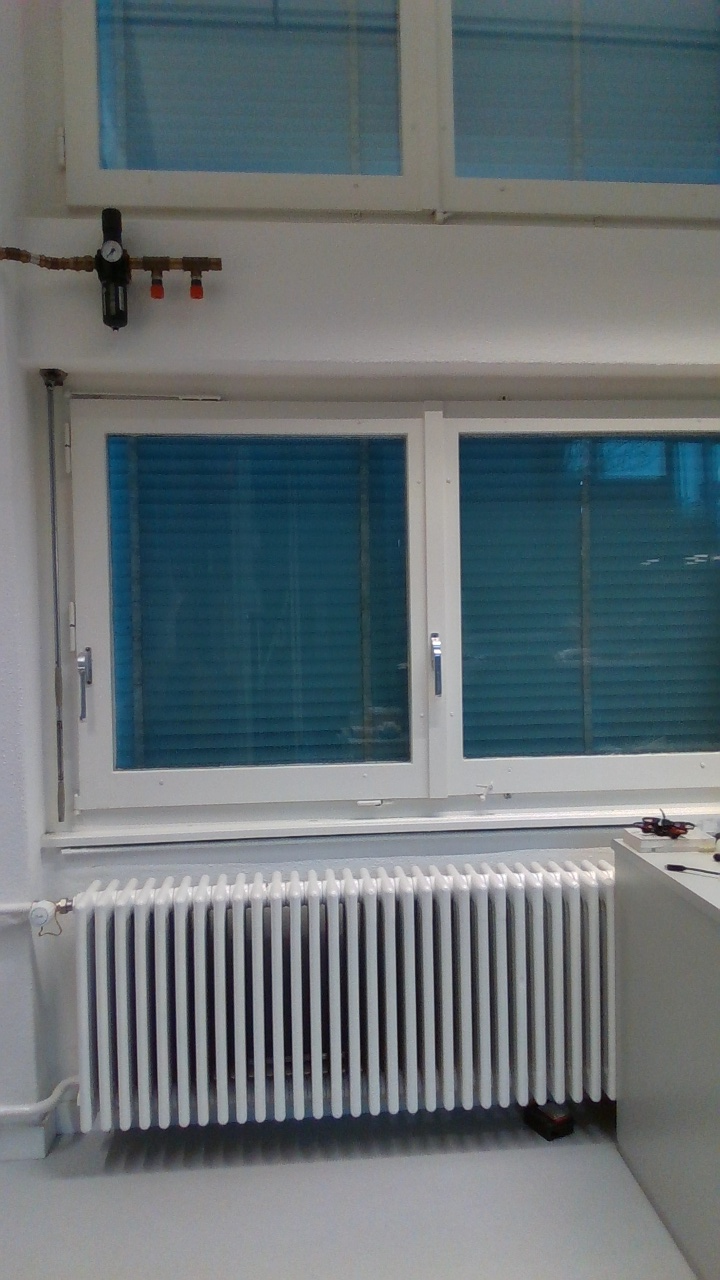Knob_Radiator: (20, 894, 66, 940)
Radiator: (67, 850, 609, 1140)
